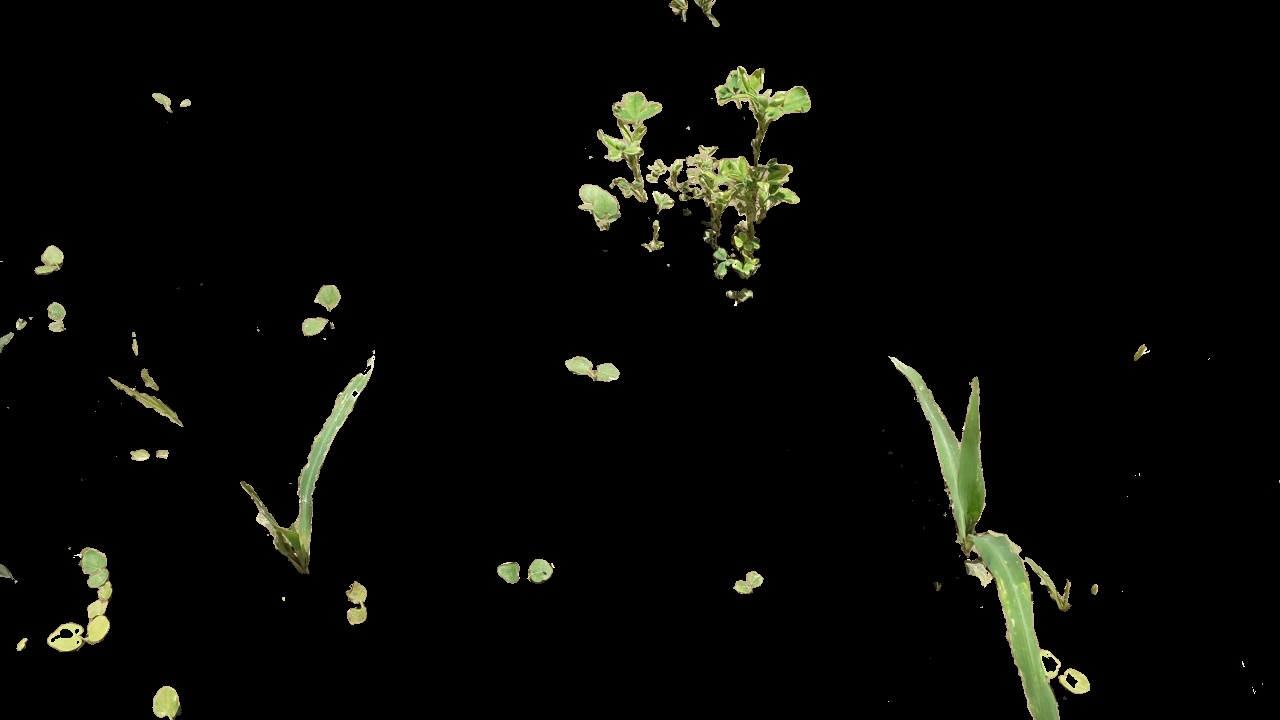crop: (888, 355, 1082, 635), (231, 353, 374, 576)
weed: (580, 66, 812, 311), (45, 536, 115, 656), (290, 281, 350, 341), (1040, 644, 1093, 695), (497, 548, 560, 586), (336, 576, 376, 632), (563, 352, 621, 386), (147, 681, 182, 720), (27, 245, 66, 276), (149, 91, 195, 115), (42, 296, 70, 335), (733, 572, 765, 601)
